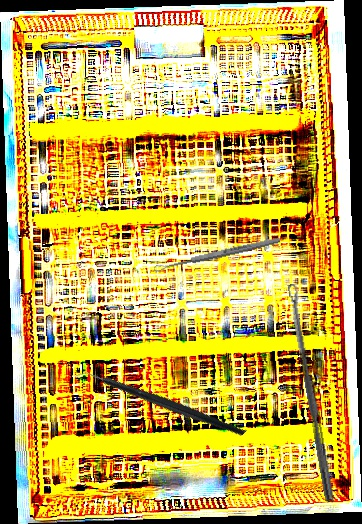Chopper: (72, 322, 247, 488)
Surgical Spoon: (287, 283, 336, 503), (153, 236, 281, 273)
